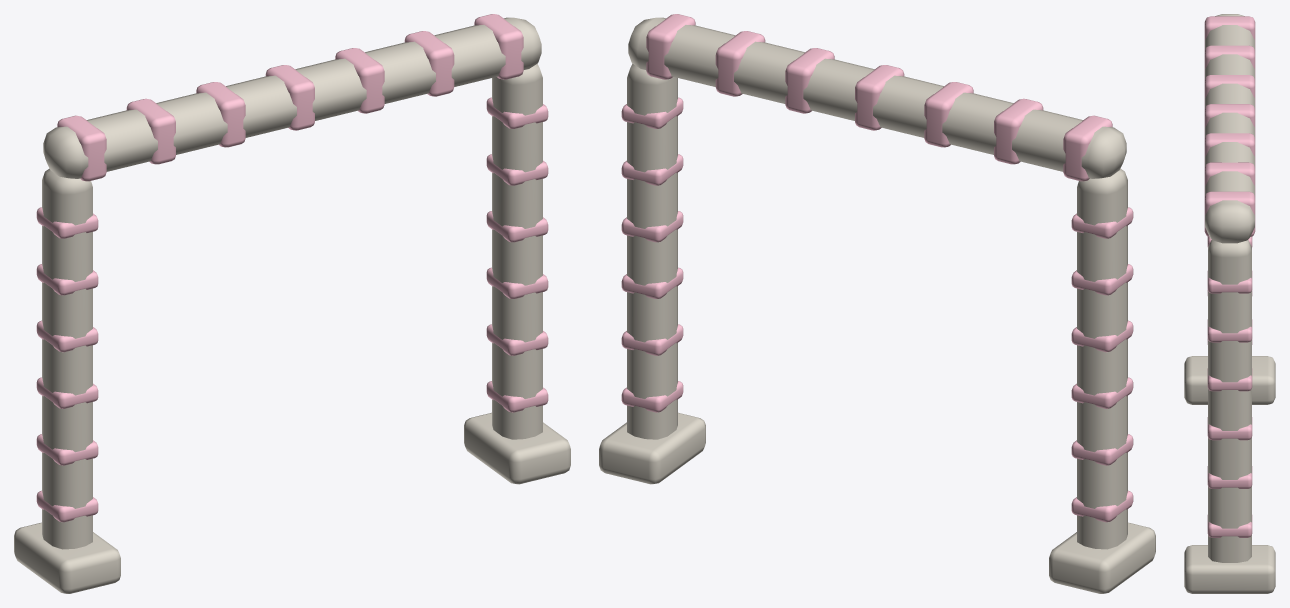
The model's file is Arch.fbx.
3 views of the same model, side by side, from view 1: azimuth 30°, elevation 25°; view 2: azimuth 150°, elevation 25°; view 3: azimuth 270°, elevation 25° (orthographic). The views are drawn at different scales.
Visible parts, largest first — view 1: Beam, PostL, PostR, FootR, FootL, BeamStripe4, BeamStripe6, BeamStripe0, BeamStripe5, BeamStripe2, BeamStripe1, BeamStripe3 (+12 smaller); view 2: Beam, PostL, PostR, FootR, FootL, BeamStripe4, BeamStripe6, BeamStripe0, BeamStripe5, BeamStripe2, BeamStripe1, BeamStripe3 (+12 smaller); view 3: PostR, Beam, FootR, FootL, BeamStripe6, BeamStripe1, BeamStripe5, BeamStripe0, BeamStripe4, BeamStripe3, BeamStripe2, PostStripeR5 (+5 smaller).
Part boxes in pixels (x1,y1,x2,y2): Beam: [43, 17, 541, 178]; PostL: [42, 168, 92, 549]; PostR: [492, 63, 542, 439]; FootR: [464, 412, 570, 484]; FootL: [14, 522, 120, 593]; BeamStripe4: [335, 48, 384, 113]; BeamStripe6: [474, 14, 523, 79]; BeamStripe0: [57, 115, 106, 181]; BeamStripe5: [404, 31, 454, 96]; BeamStripe2: [196, 82, 245, 147]; BeamStripe1: [126, 98, 175, 164]; BeamStripe3: [265, 65, 314, 130]; Beam: [628, 17, 1126, 178]; PostL: [1077, 168, 1127, 549]; PostR: [627, 63, 677, 439]; FootR: [599, 412, 705, 484]; FootL: [1049, 522, 1155, 593]; BeamStripe4: [785, 48, 834, 113]; BeamStripe6: [646, 14, 695, 79]; BeamStripe0: [1063, 115, 1112, 181]; BeamStripe5: [715, 31, 765, 96]; BeamStripe2: [924, 82, 973, 147]; BeamStripe1: [994, 98, 1043, 164]; BeamStripe3: [855, 65, 904, 130]; PostR: [1208, 240, 1251, 562]; Beam: [1205, 14, 1254, 243]; FootR: [1184, 545, 1275, 593]; FootL: [1184, 356, 1275, 404]; BeamStripe6: [1204, 191, 1255, 236]; BeamStripe1: [1204, 45, 1255, 79]; BeamStripe5: [1204, 162, 1255, 196]; BeamStripe0: [1204, 16, 1255, 50]; BeamStripe4: [1204, 133, 1255, 167]; BeamStripe3: [1204, 104, 1255, 137]; BeamStripe2: [1204, 75, 1255, 108]; PostStripeR5: [1207, 271, 1252, 293].
Size of the model in its own units: 500 by 414 by 90.
